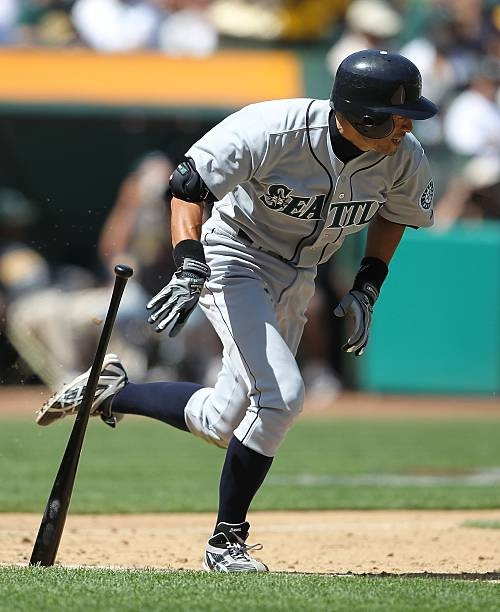bita: (33, 264, 136, 565)
